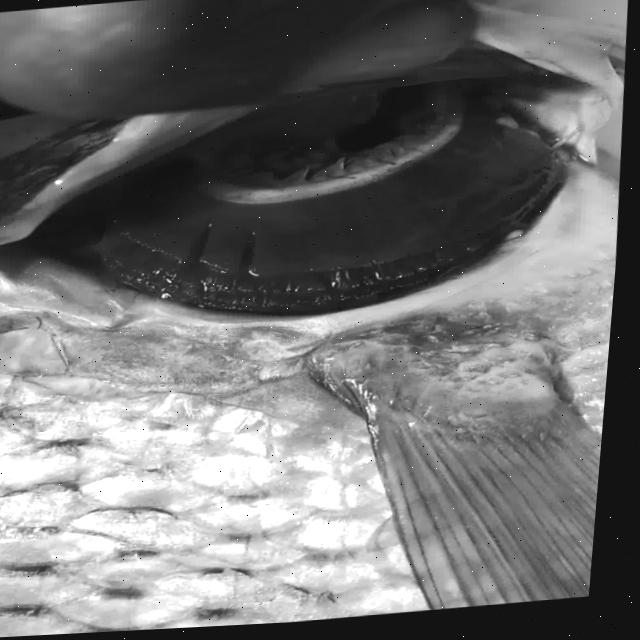Fresh: (0, 93, 608, 360)
